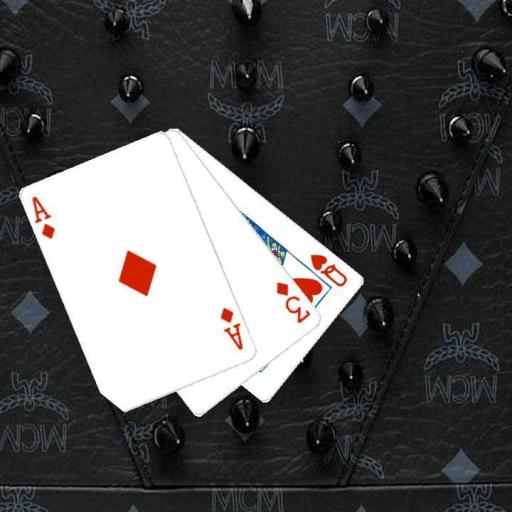card-corner: (273, 278, 313, 326), (307, 250, 350, 289), (29, 193, 57, 241), (218, 304, 245, 352)
